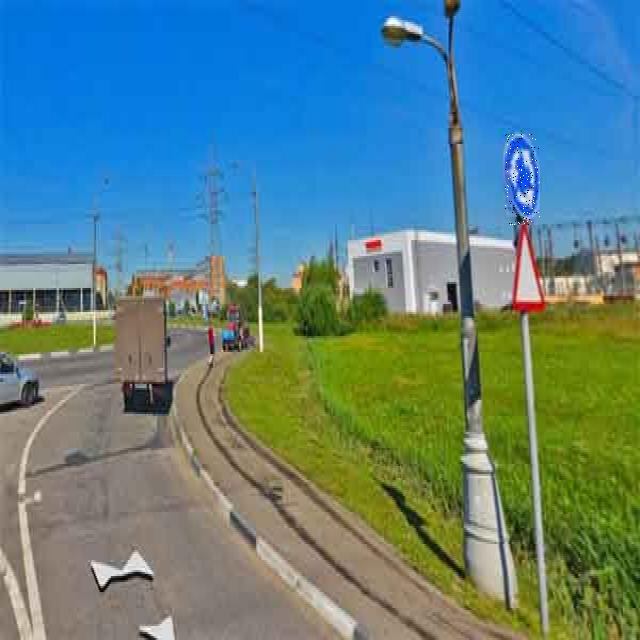roundabout: (505, 134, 540, 225)
